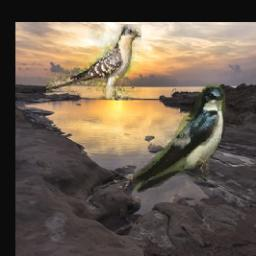Cuckoo: (45, 24, 141, 101)
Swallow: (133, 85, 225, 194)
